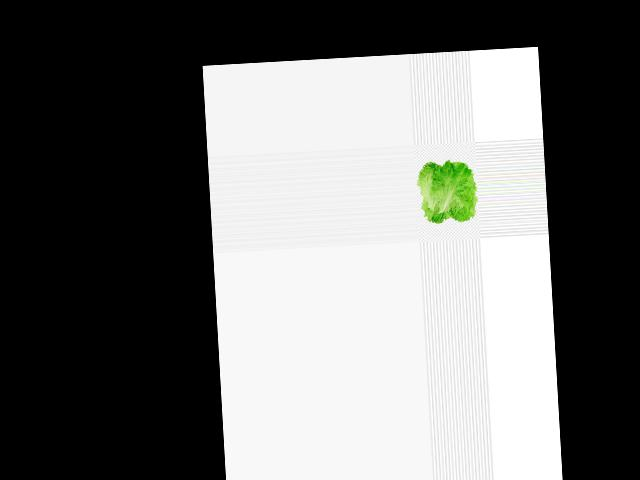lettuce: (414, 154, 480, 229)
